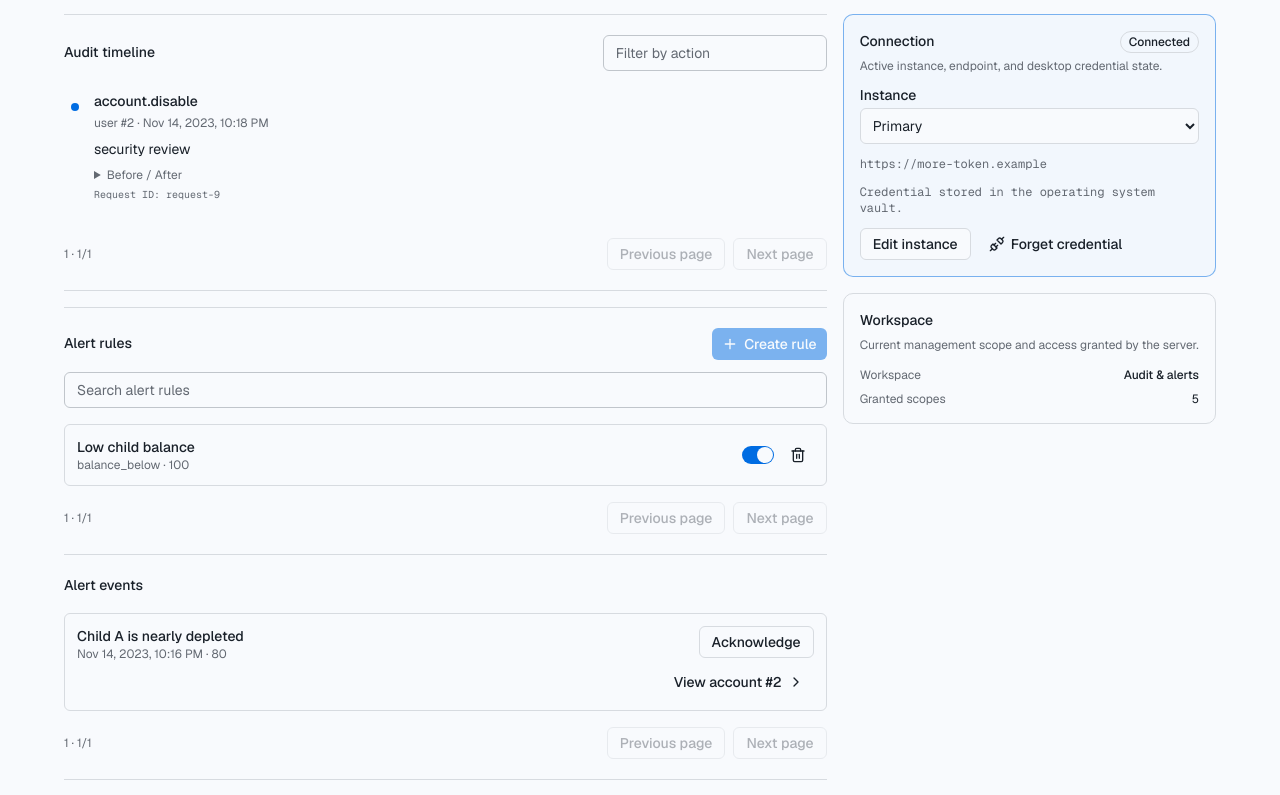
Test case: shows immutable audit details, alert rules and acknowledgement controls
Check: the text "account.disable" is shown, box [94, 91, 198, 111]
Check: the text "security review" is shown, box [94, 140, 190, 158]
Click the button "View account #2" at (739, 682), box [664, 666, 814, 698]
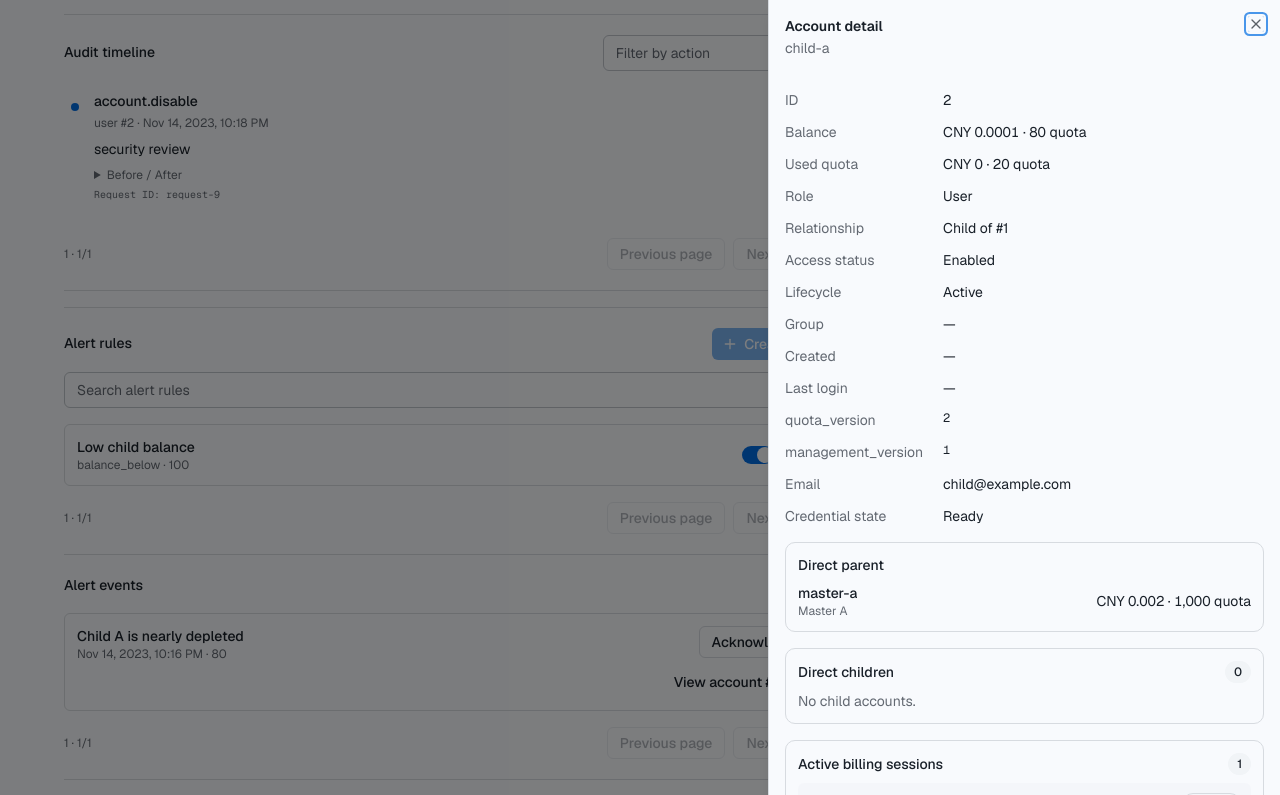
Check: the heading "Account detail" is shown, box [785, 16, 882, 38]
Check: the text "child-a" is shown, box [785, 39, 829, 57]
